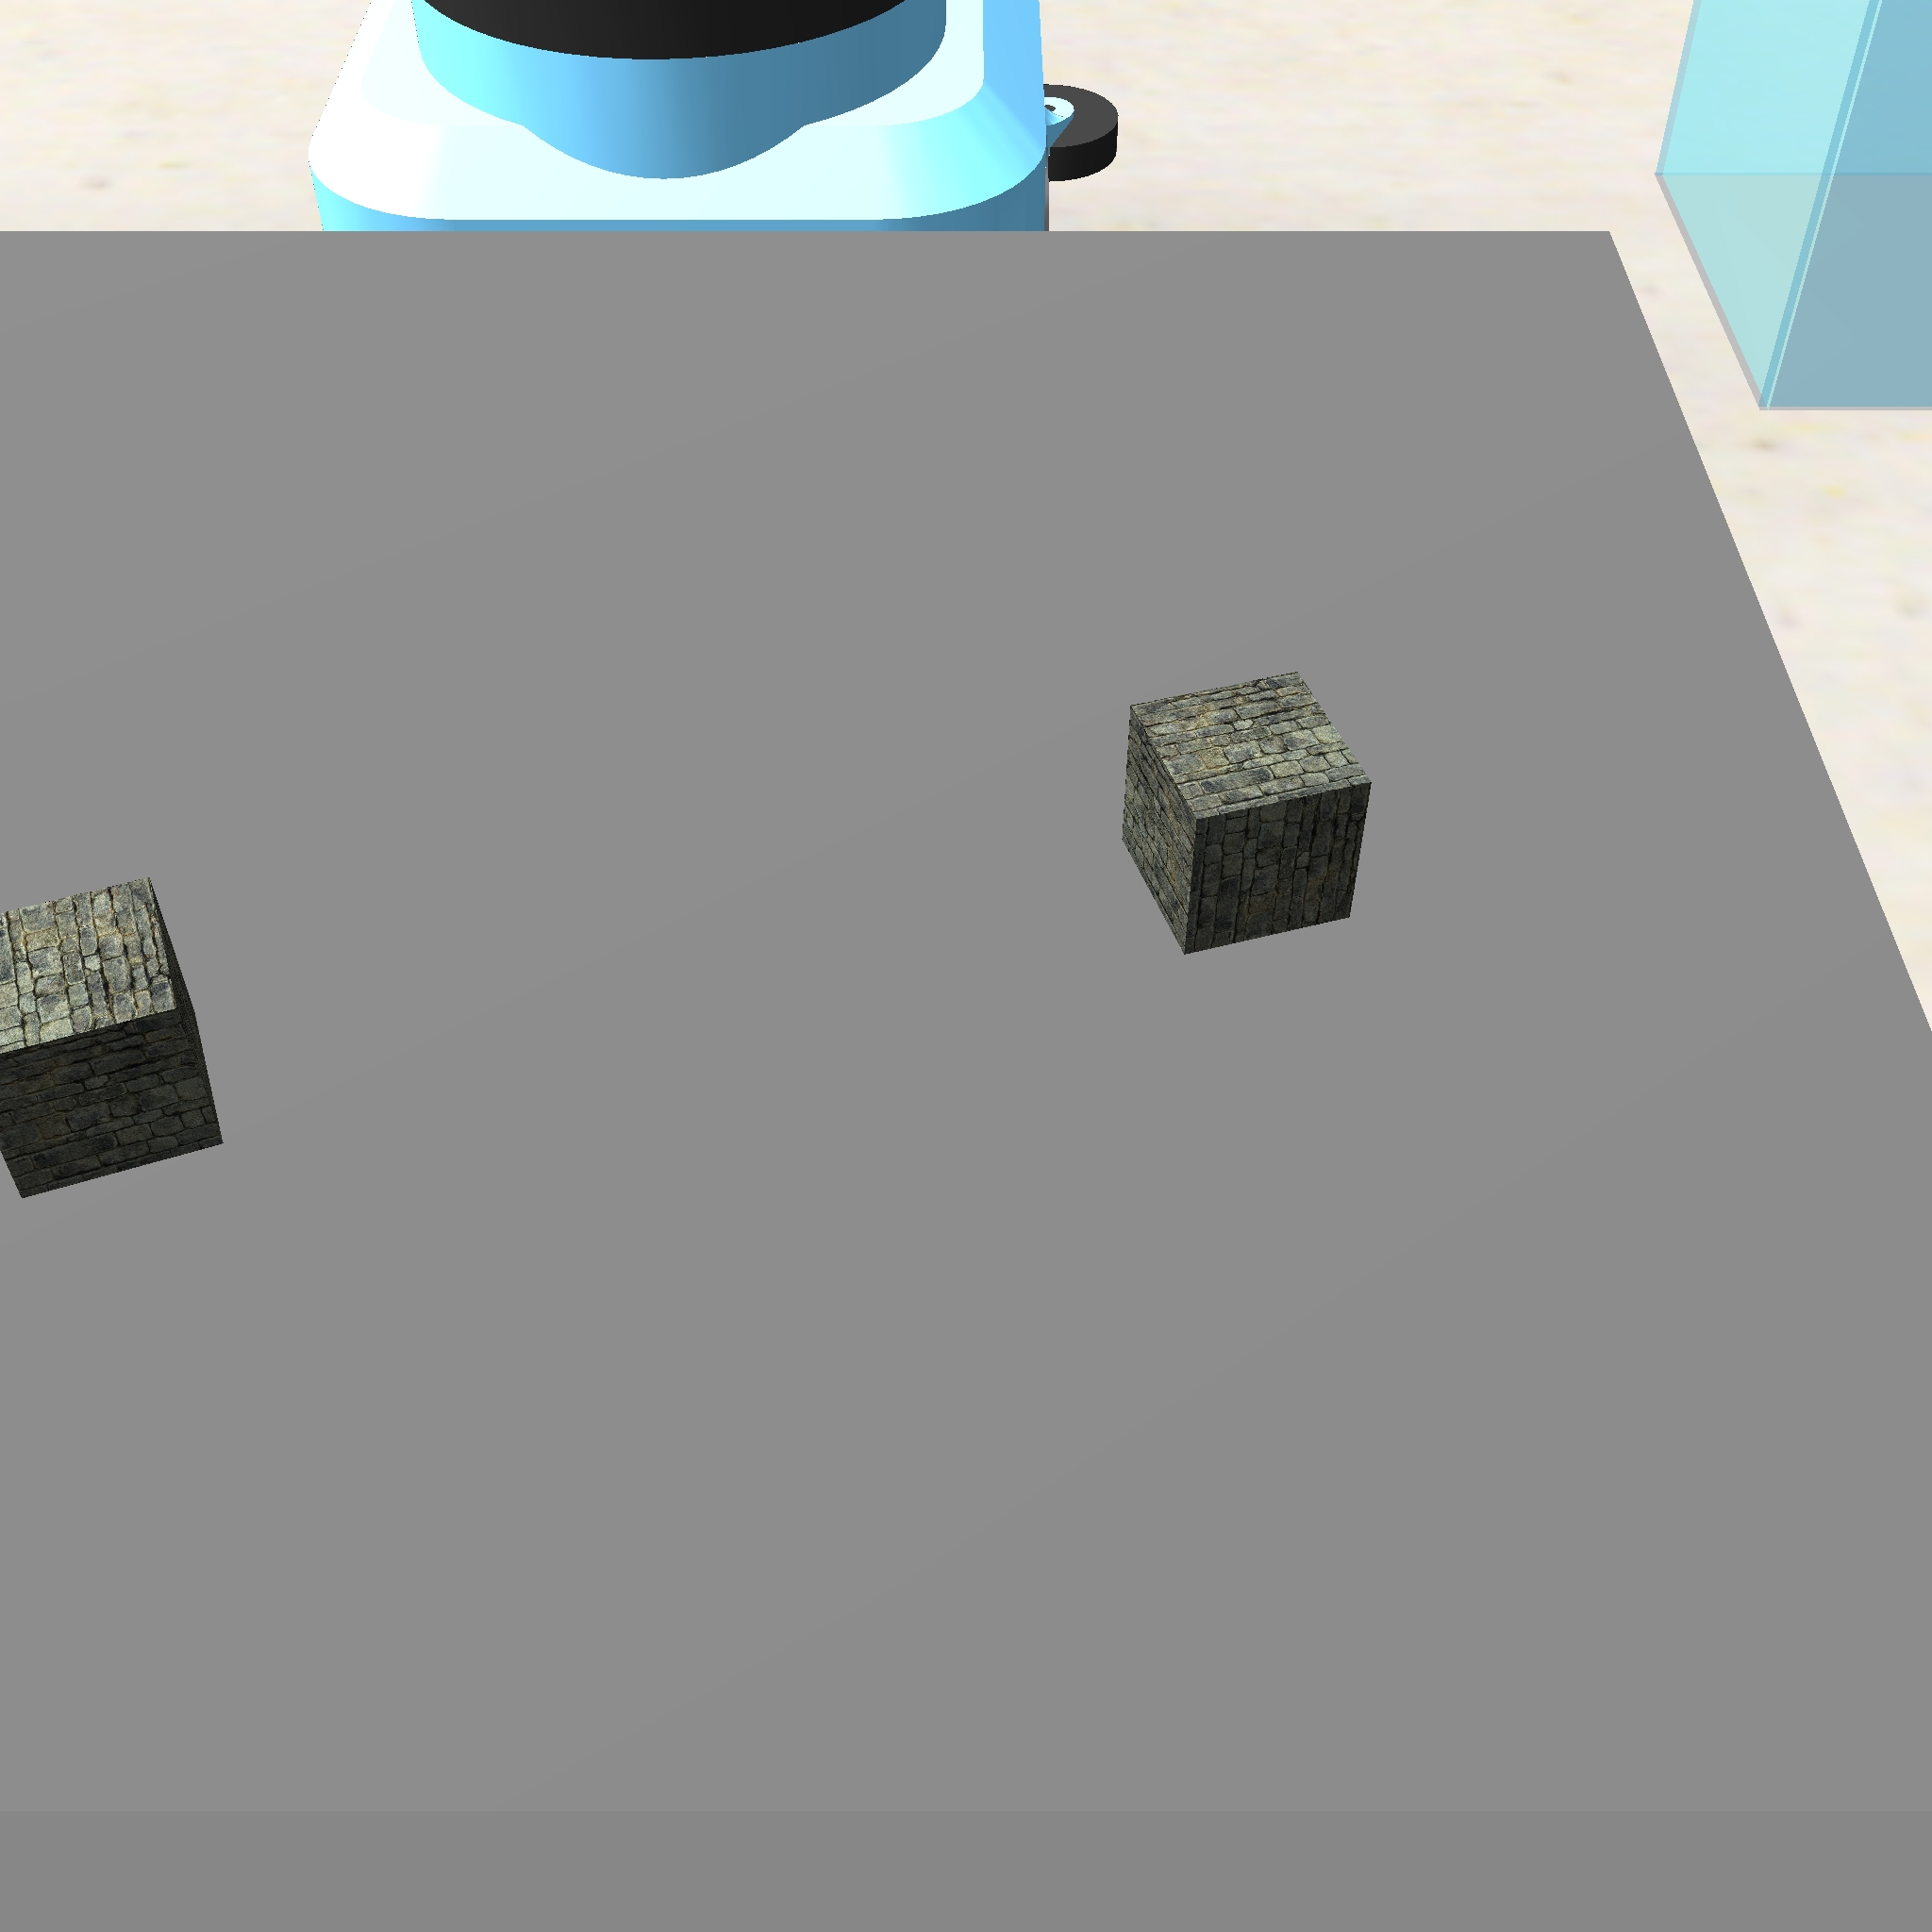cube: (1116, 669, 1382, 962), (0, 872, 234, 1205)
